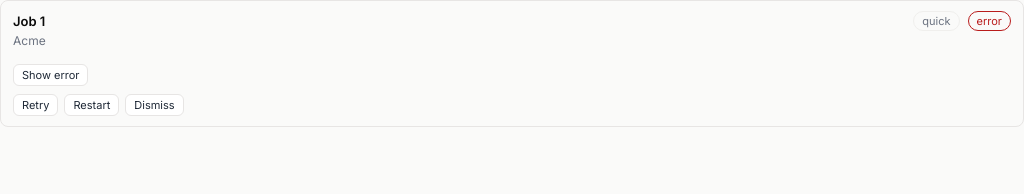
Test case: QueueItem › shows the first line of the error when expanded
Check: the text "HTTP 429: rate limited" is not shown
Click the button "Show error" at (51, 75), box [13,64,88,86]
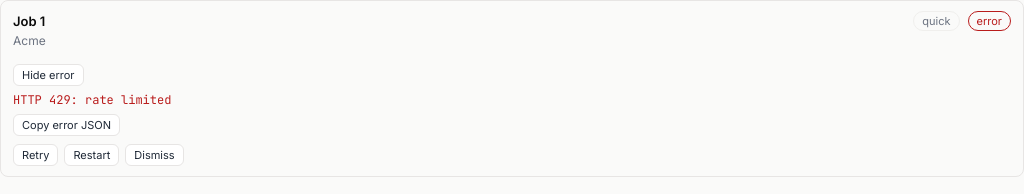
Check: the text "HTTP 429: rate limited" is shown, box [13,92,171,108]
Click the button "Hide error" at (48, 75), box [13,64,84,86]
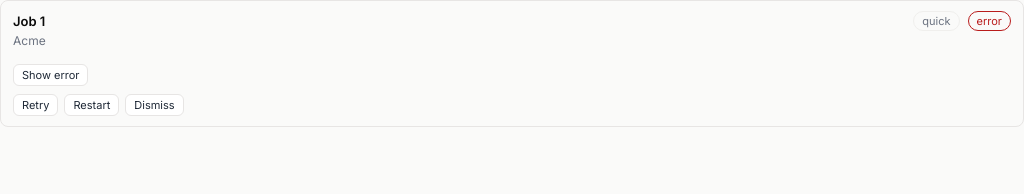
Check: the text "HTTP 429: rate limited" is gone
